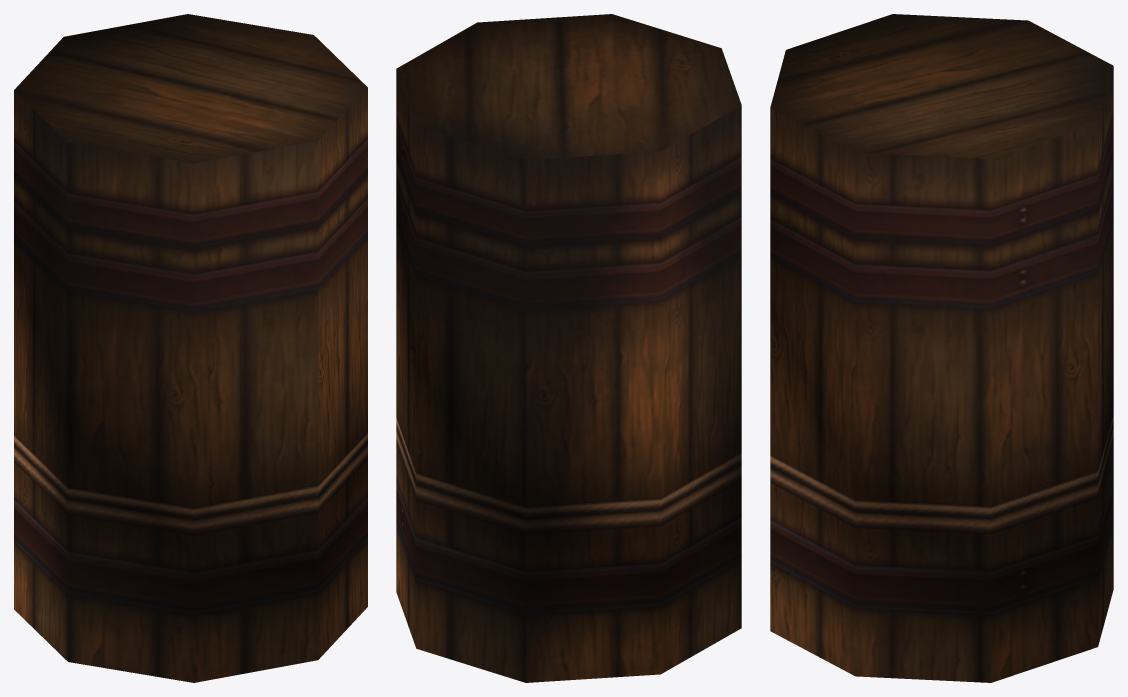
Rendered from barrelUnit.fbx.
The picture shows the model from 3 angles, left to right: view 1: azimuth 30°, elevation 25°; view 2: azimuth 150°, elevation 25°; view 3: azimuth 270°, elevation 25°; orthographic projection.
Parts seen in each view (by area): view 1: polySurface1750; view 2: polySurface1750; view 3: polySurface1750.
Part boxes in pixels (<box>): polySurface1750: <box>14,14,367,682</box>; polySurface1750: <box>396,14,741,682</box>; polySurface1750: <box>770,14,1113,682</box>.
Bounding box in the file's own units: 4.64 × 7.81 × 4.64.
